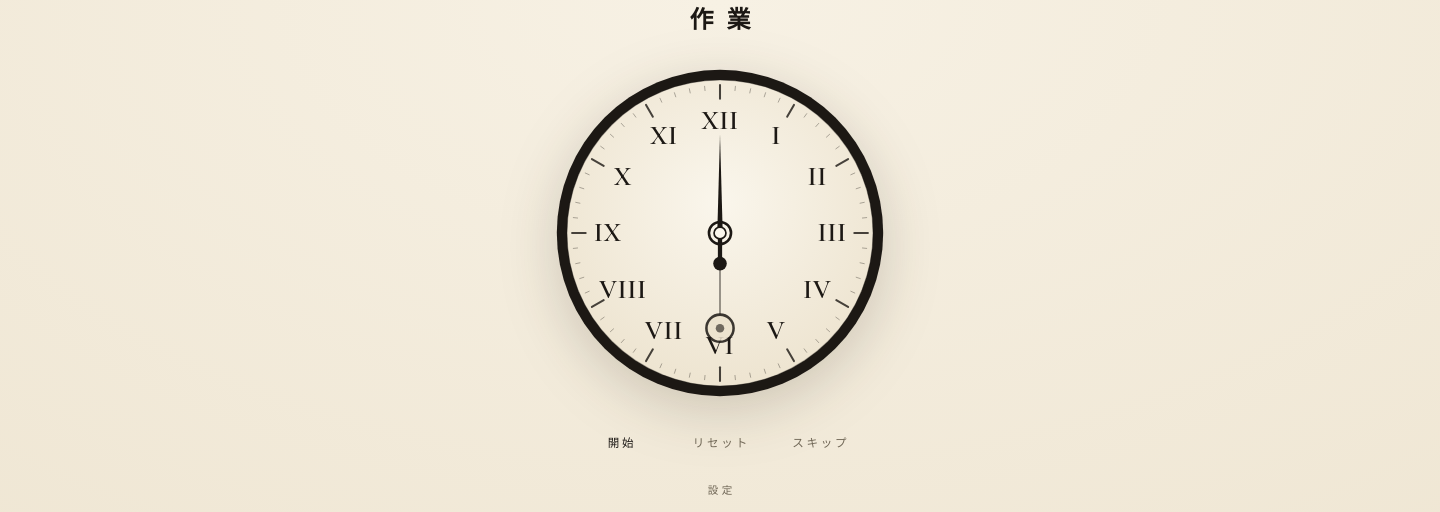
Test: PomodoroTimer › スキップで次フェーズ（小休憩 05:00）へ移る
The image size is (1440, 512).
Click the button "スキップ". click: click(821, 442)
box: [791, 431, 851, 453]
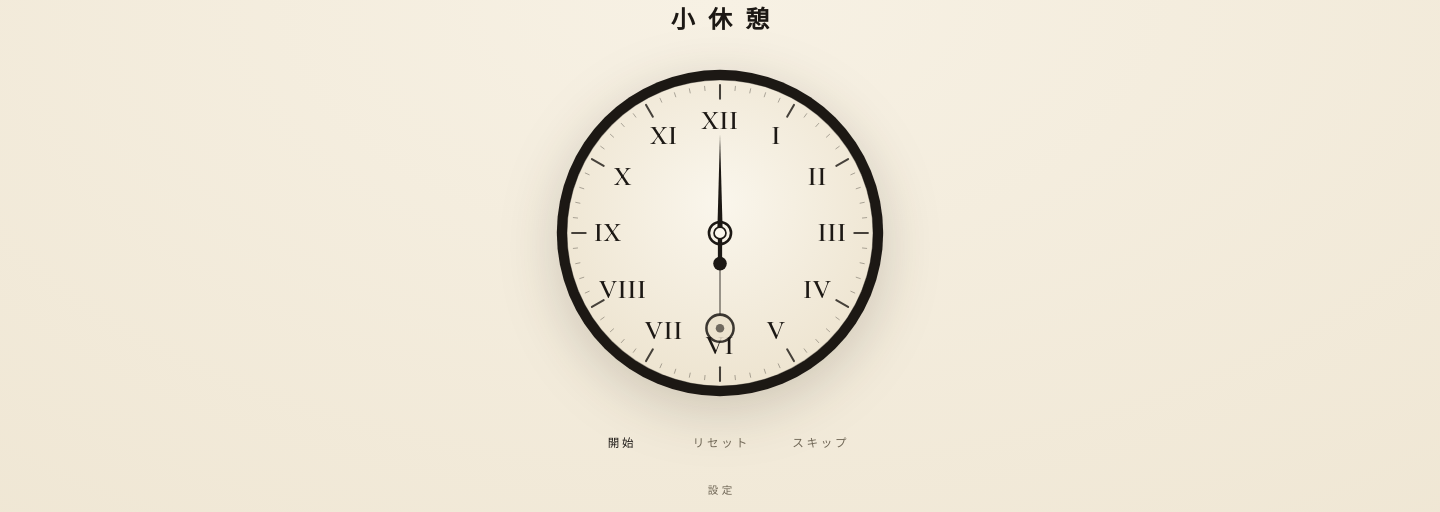
Result: the text "小休憩" is shown at [671, 0, 782, 35]
